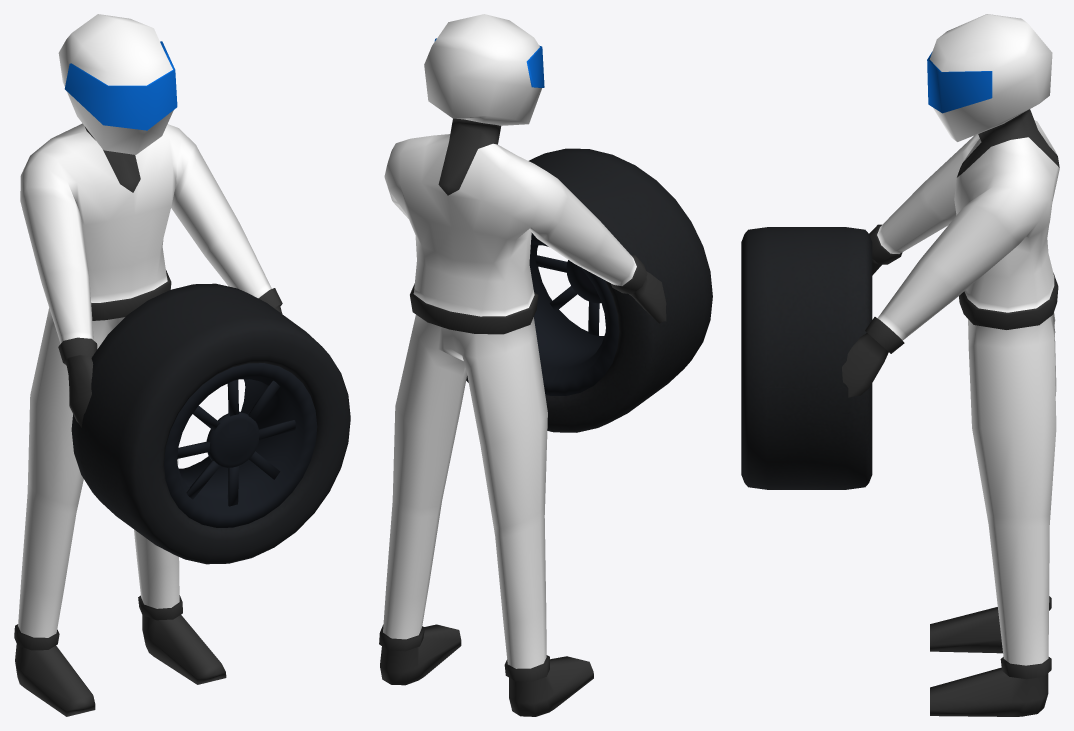
File: front_left_wheel_carrier.glb
3 renders of one model, left to right at view 1: azimuth 30°, elevation 25°; view 2: azimuth 150°, elevation 25°; view 3: azimuth 270°, elevation 25°, orthographic.
Visible parts, largest first — view 1: PitCrewBody, GEO_WHEEL_FRONT_L_TIRE, GEO_WHEEL_FRONT_L_RIM_04; view 2: PitCrewBody, GEO_WHEEL_FRONT_L_TIRE, GEO_WHEEL_FRONT_L_RIM_04; view 3: PitCrewBody, GEO_WHEEL_FRONT_L_TIRE.
Boxes of the visible parts, left/top/right/bottom form: PitCrewBody: left=14, top=14, right=282, bottom=716; GEO_WHEEL_FRONT_L_TIRE: left=71, top=283, right=350, bottom=564; GEO_WHEEL_FRONT_L_RIM_04: left=164, top=363, right=317, bottom=527; PitCrewBody: left=379, top=14, right=666, bottom=716; GEO_WHEEL_FRONT_L_TIRE: left=466, top=148, right=712, bottom=432; GEO_WHEEL_FRONT_L_RIM_04: left=529, top=233, right=619, bottom=395; PitCrewBody: left=842, top=14, right=1059, bottom=716; GEO_WHEEL_FRONT_L_TIRE: left=741, top=227, right=872, bottom=489.
Size of the model in its own units: 0.6638 by 1.84 by 0.801.
5 materials, 1 textured.
